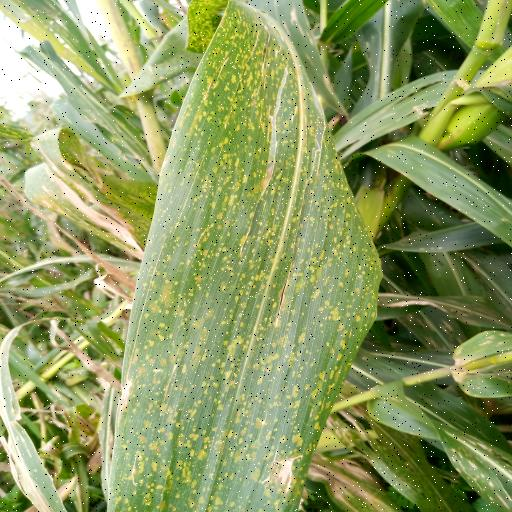Corn_Brown_Spots: (92, 3, 382, 512)
